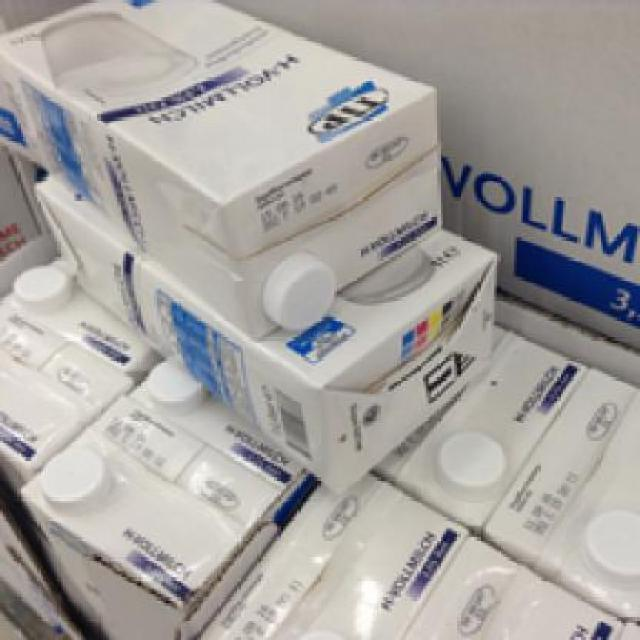Milk: (0, 0, 457, 326)
